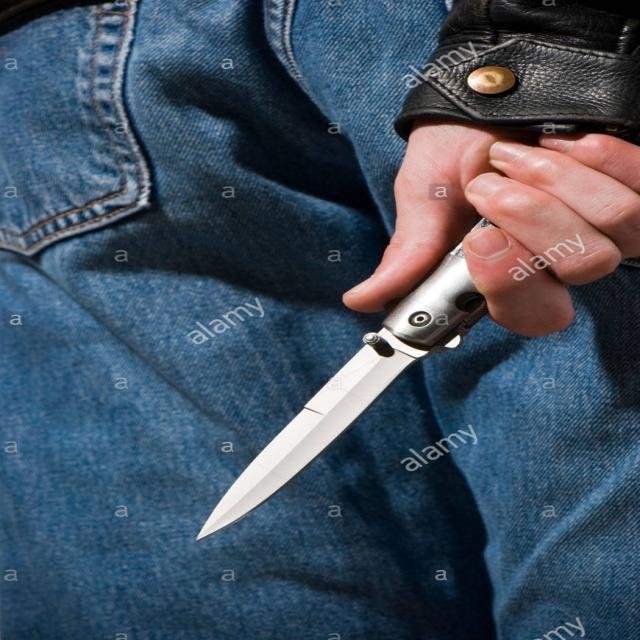knife: (194, 233, 463, 551)
